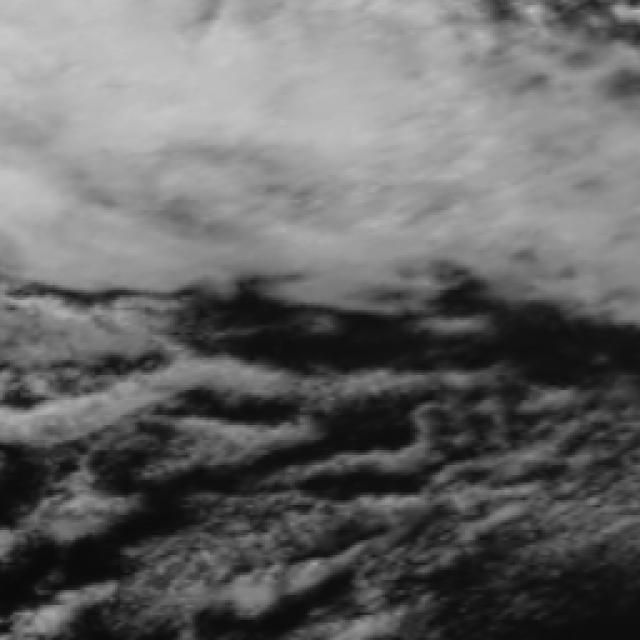CB: (3, 0, 422, 171)
